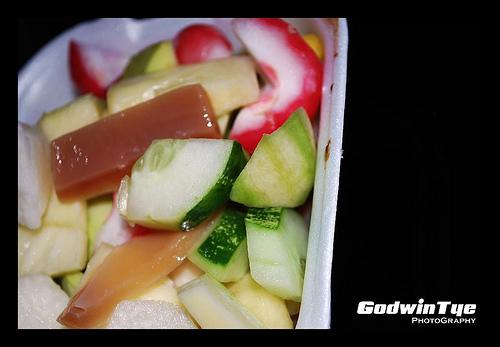cucumber: (126, 138, 241, 228), (228, 105, 316, 207), (245, 206, 310, 298)
